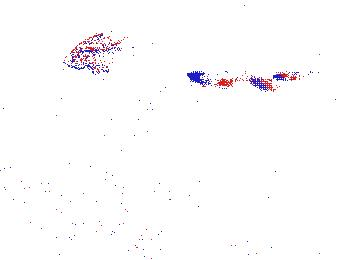X-ray fish: (63, 32, 129, 77)
red belly glassfish: (274, 66, 311, 83)
redtail glassfish: (189, 68, 270, 90)
